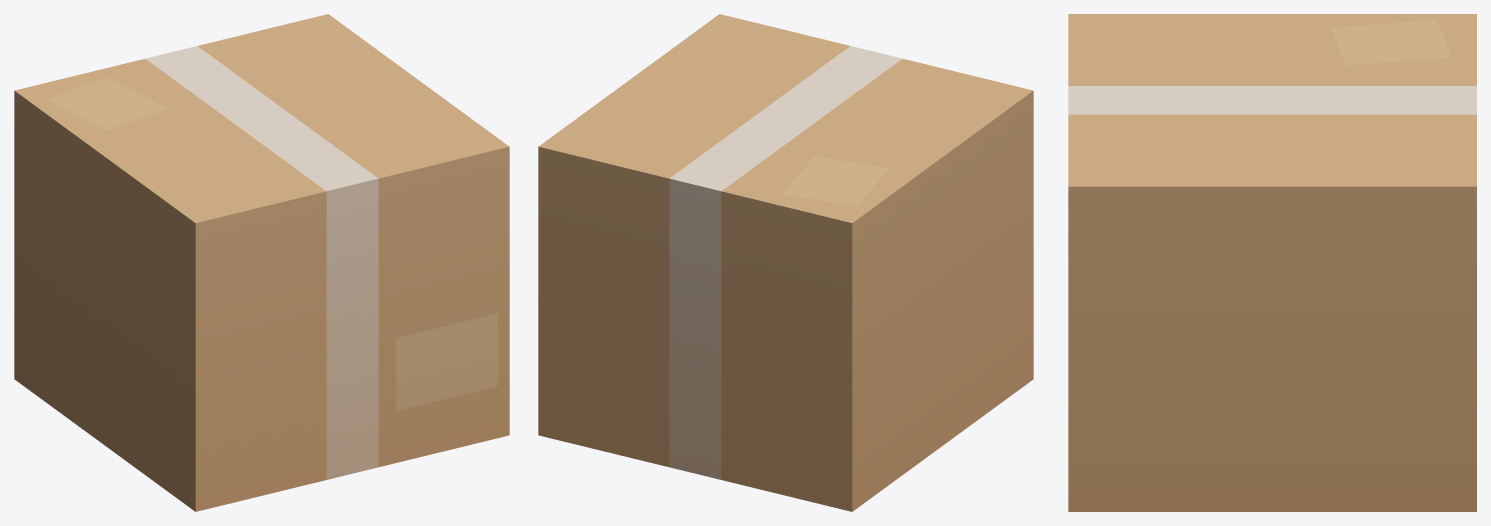
Rendered from box_A-processed.glb.
3 renders of one model, left to right at view 1: azimuth 30°, elevation 25°; view 2: azimuth 150°, elevation 25°; view 3: azimuth 270°, elevation 25°, orthographic. The views are drawn at different scales.
Visible parts, largest first — view 1: box_A; view 2: box_A; view 3: box_A.
Boxes of the visible parts, x1=… form: box_A: x1=14, y1=14, x2=509, y2=511; box_A: x1=538, y1=14, x2=1033, y2=511; box_A: x1=1068, y1=14, x2=1476, y2=511.
Size of the model in its own units: 0.2 by 0.1764 by 0.2031.
1 material, 1 textured.
